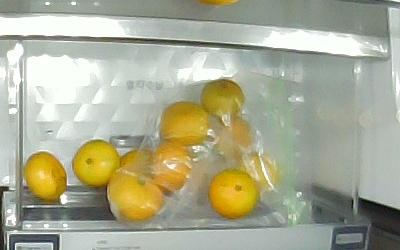tangerine: (72, 139, 123, 187), (25, 151, 68, 202)
tangerine_vinyl: (109, 167, 166, 224), (207, 169, 260, 220), (159, 102, 209, 144), (150, 143, 192, 191), (214, 116, 254, 160), (201, 79, 246, 117), (240, 155, 278, 192), (121, 146, 158, 176)
